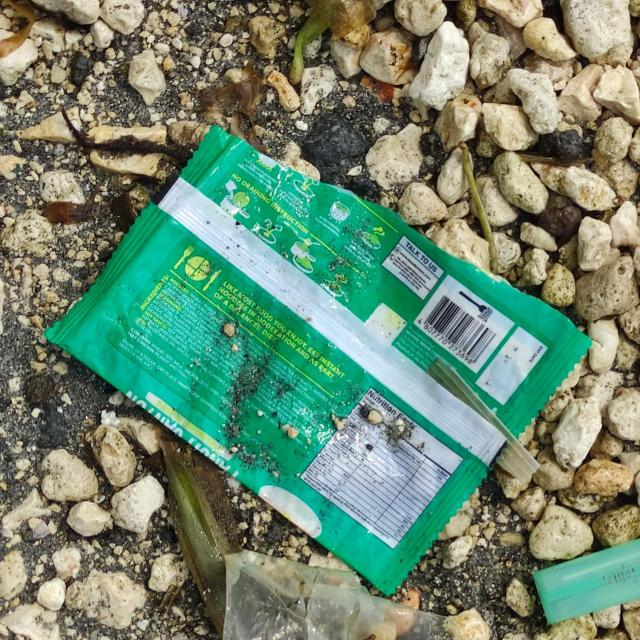plastic_waste: (45, 123, 591, 598)
